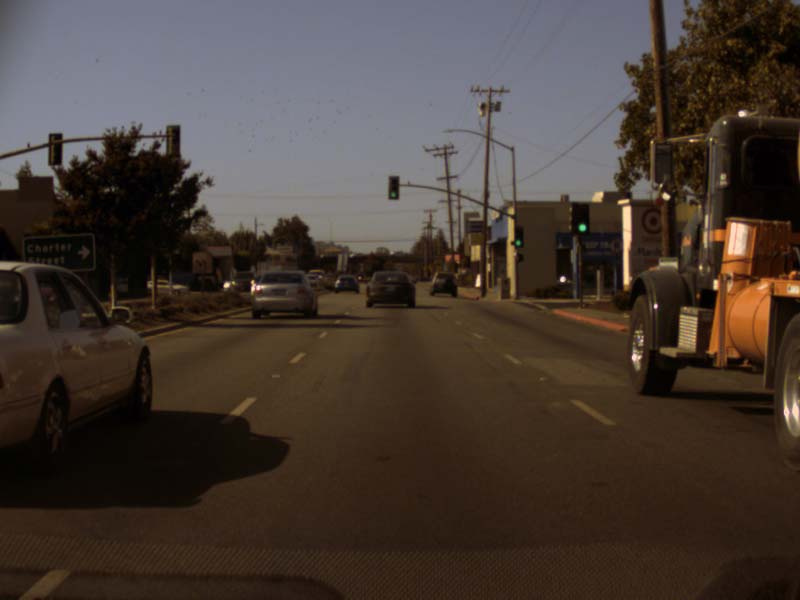Green: (571, 203, 587, 234), (388, 175, 398, 199), (514, 225, 524, 246)
